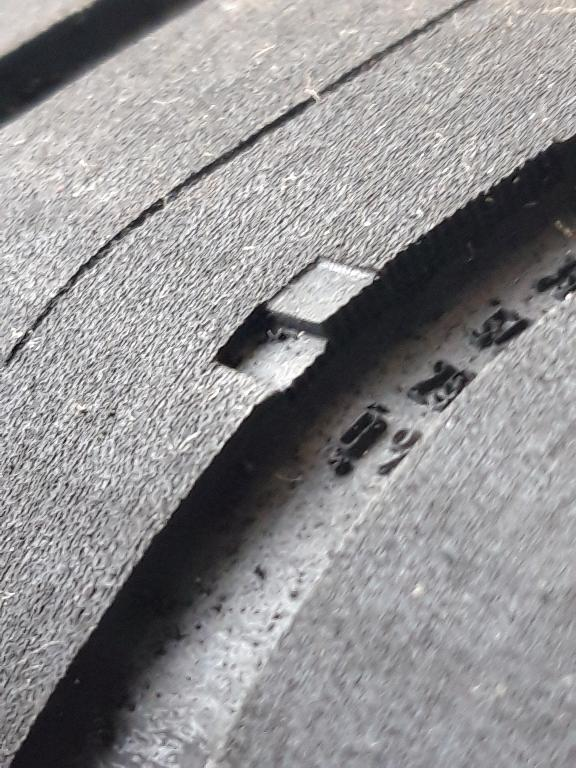temoin:25: (204, 250, 403, 418)
